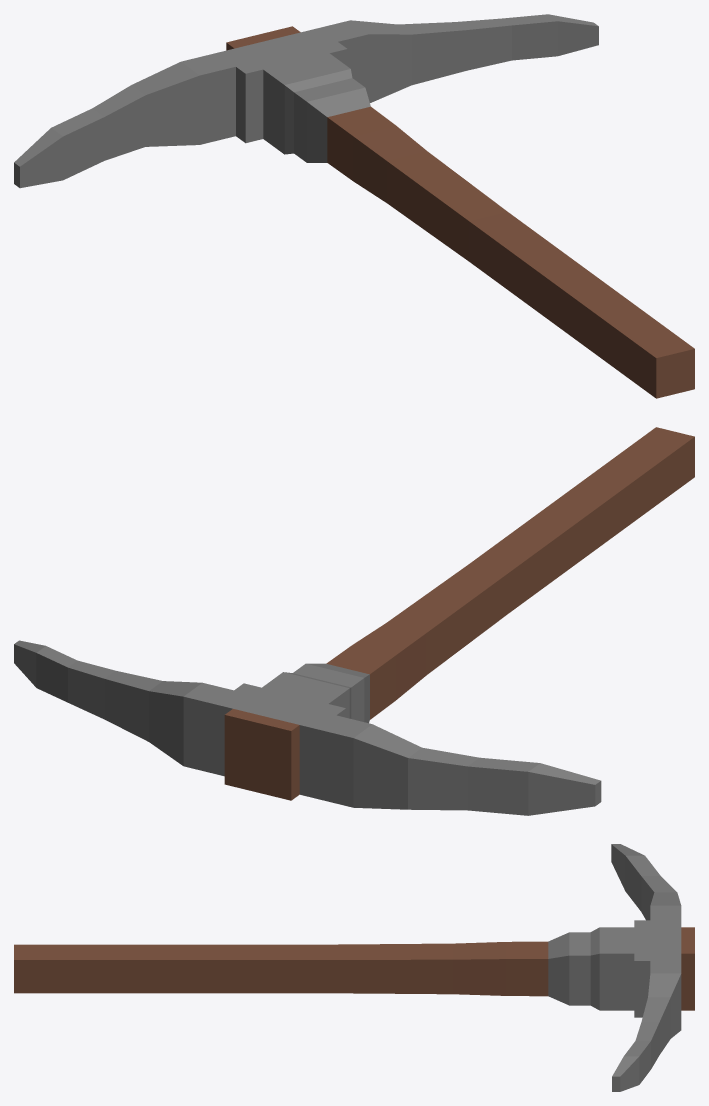
The model's file is pickaxe.fbx.
3 renders of one model, top to bottom at view 1: azimuth 30°, elevation 25°; view 2: azimuth 150°, elevation 25°; view 3: azimuth 270°, elevation 25°, orthographic. The views are drawn at different scales.
Visible parts, largest first — view 1: Cube; view 2: Cube; view 3: Cube.
Boxes of the visible parts, left/top/right/bottom form: Cube: left=14, top=14, right=694, bottom=398; Cube: left=14, top=427, right=694, bottom=815; Cube: left=14, top=844, right=694, bottom=1091.
Size of the model in its own units: 264 by 30.24 by 328.
